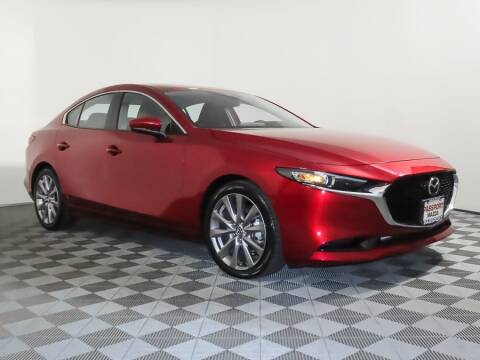Mazda3 Hatchback: (23, 82, 459, 279)
